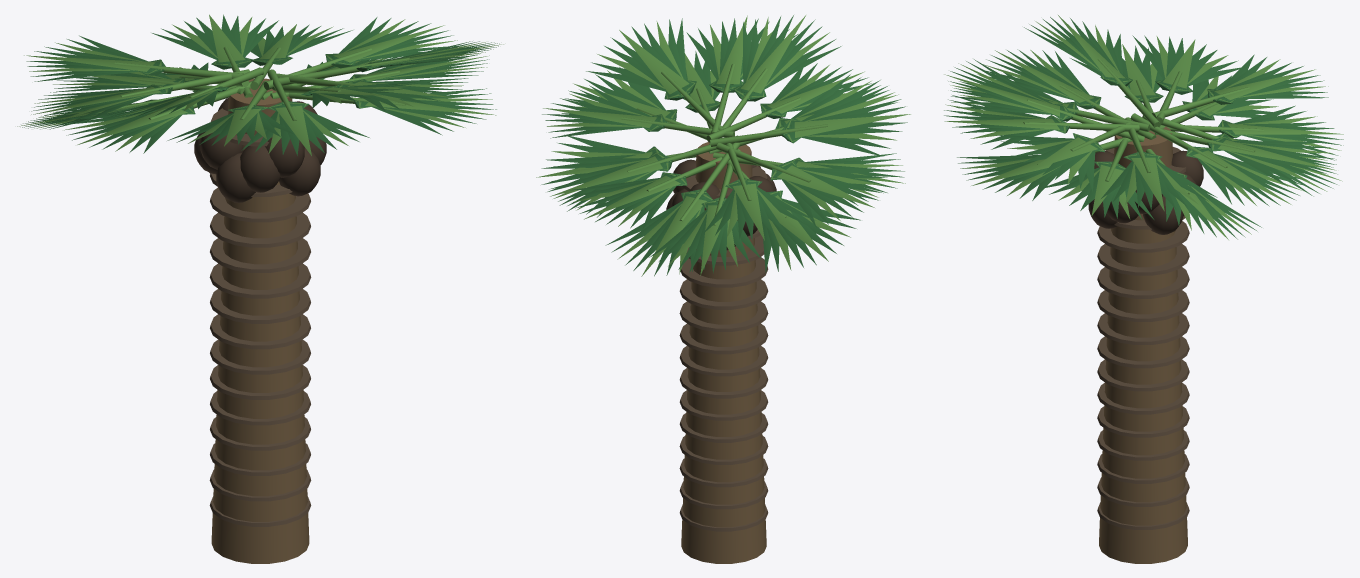
The model's file is tal-palmyra-palm.glb.
The picture shows the model from 3 angles, left to right: view 1: azimuth 30°, elevation 25°; view 2: azimuth 150°, elevation 25°; view 3: azimuth 270°, elevation 25°; orthographic projection. The views are drawn at different scales.
Visible parts, largest first — view 1: ringed-trunk, fan-segment-6 (×5), petiole (×3), trunk-ring-12, tal-fruit-5, trunk-ring-13, trunk-ring-11, trunk-ring-10, trunk-ring-9, tal-fruit-6, trunk-ring-8, trunk-ring-7 (+9 smaller); view 2: ringed-trunk, fan-segment-6 (×14), petiole (×5), trunk-ring-11, trunk-ring-12, trunk-ring-10, trunk-ring-9, trunk-ring-8, trunk-ring-7, trunk-ring-6, trunk-ring-5, trunk-ring-4 (+4 smaller); view 3: ringed-trunk, fan-segment-6 (×13), petiole (×5), trunk-ring-12, trunk-ring-13, trunk-ring-11, trunk-ring-10, trunk-ring-9, trunk-ring-8, trunk-ring-7, trunk-ring-6, trunk-ring-5 (+6 smaller).
Part boxes in pixels (x1,y1,x2,y2): ringed-trunk: (211, 78, 309, 563); fan-segment-6 (×5): (24, 14, 444, 155); petiole (×3): (114, 57, 409, 96); trunk-ring-12: (210, 212, 310, 247); tal-fruit-5: (240, 146, 280, 192); trunk-ring-13: (210, 187, 310, 222); trunk-ring-11: (210, 238, 310, 272); trunk-ring-10: (209, 263, 311, 298); trunk-ring-9: (210, 289, 310, 323); tal-fruit-6: (216, 152, 255, 202); trunk-ring-8: (210, 314, 310, 349); trunk-ring-7: (210, 339, 310, 374); ringed-trunk: (681, 142, 766, 563); fan-segment-6 (×14): (543, 15, 910, 276); petiole (×5): (621, 97, 827, 220); trunk-ring-11: (679, 279, 768, 309); trunk-ring-12: (680, 257, 768, 287); trunk-ring-10: (679, 301, 768, 331); trunk-ring-9: (679, 323, 768, 354); trunk-ring-8: (679, 346, 768, 376); trunk-ring-7: (679, 368, 768, 398); trunk-ring-6: (679, 390, 768, 420); trunk-ring-5: (679, 413, 768, 442); trunk-ring-4: (679, 436, 768, 464); ringed-trunk: (1099, 126, 1187, 563); fan-segment-6 (×13): (944, 15, 1343, 215); petiole (×5): (1023, 58, 1249, 167); trunk-ring-12: (1097, 244, 1189, 275); trunk-ring-13: (1097, 221, 1189, 252); trunk-ring-11: (1097, 267, 1189, 298); trunk-ring-10: (1097, 290, 1189, 321); trunk-ring-9: (1097, 313, 1189, 344); trunk-ring-8: (1097, 336, 1189, 368); trunk-ring-7: (1097, 359, 1189, 391); trunk-ring-6: (1097, 382, 1189, 414); trunk-ring-5: (1097, 406, 1189, 437).
Size of the model in its own units: 2.67 by 3.31 by 2.53.
